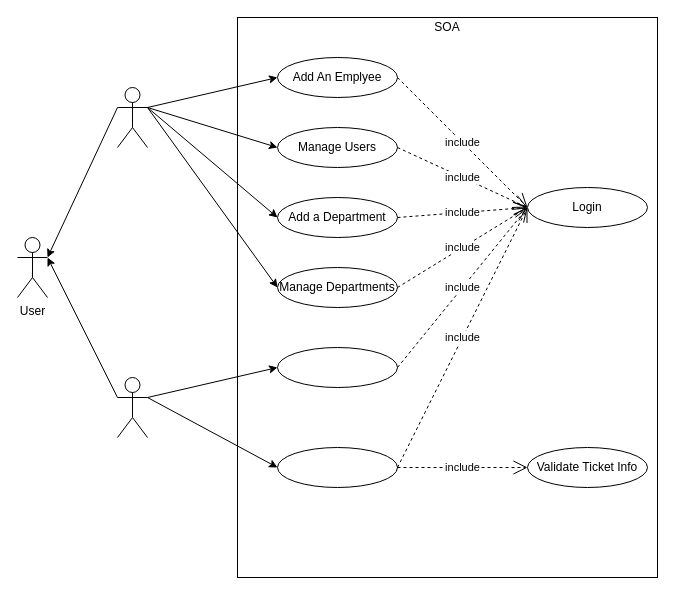
Some shapes in this 675 by 595 pixel diagram are drawn without their labels. Each missing label, with the centre of its shape:
"Administrator" belongs at [132,117].
"Employee" belongs at [132,407].
"Process Ticket" belongs at [337,467].
"Solve The Ticket" belongs at [337,367].
